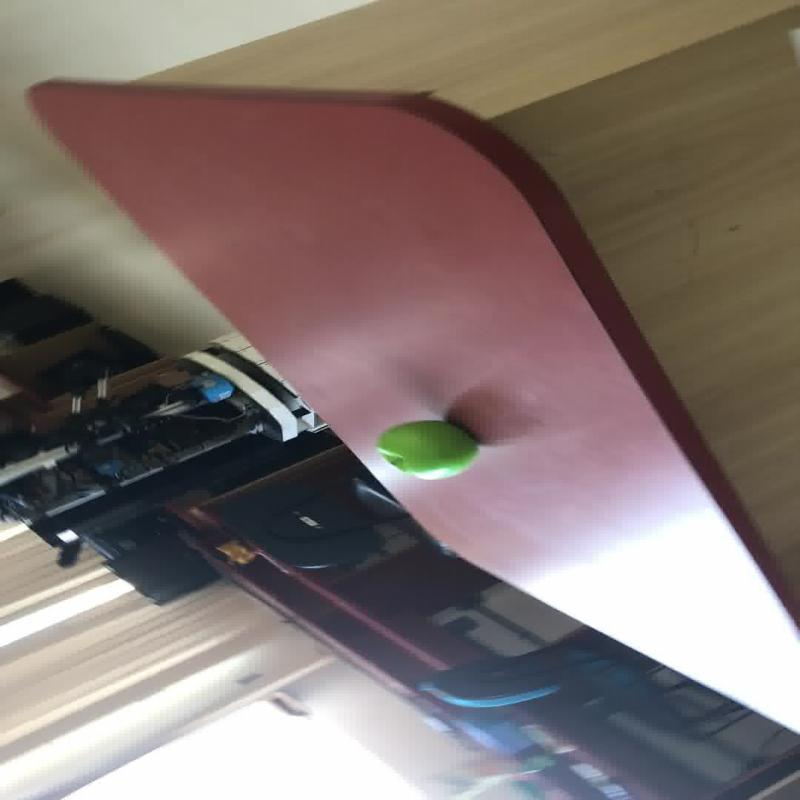apple: (373, 419, 480, 480)
